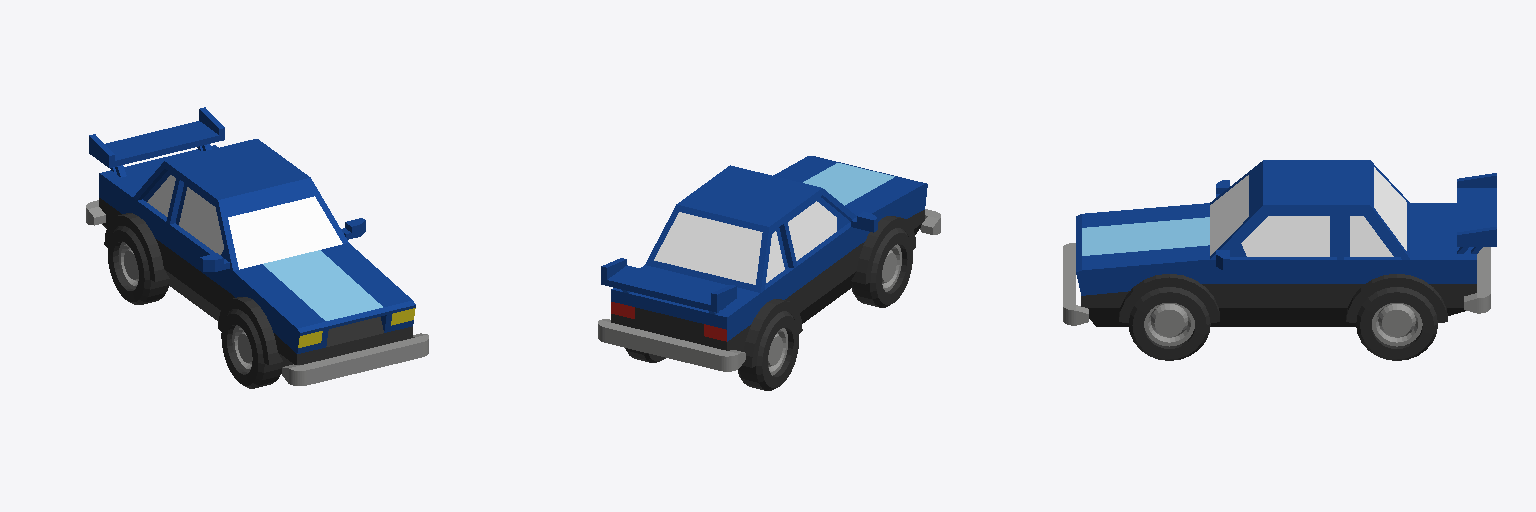
Rendered from car_sports_blue.obj.
3 renders of one model, left to right at view 1: azimuth 30°, elevation 25°; view 2: azimuth 150°, elevation 25°; view 3: azimuth 270°, elevation 25°, orthographic.
Visible parts, largest first — view 1: mergedBlocks; view 2: mergedBlocks; view 3: mergedBlocks.
Boxes of the visible parts, x1,y1,x2,y2 form: mergedBlocks: [86, 107, 428, 388]; mergedBlocks: [598, 156, 940, 390]; mergedBlocks: [1063, 160, 1496, 360].
Size of the model in its own units: 1.4 by 1.21 by 3.25.